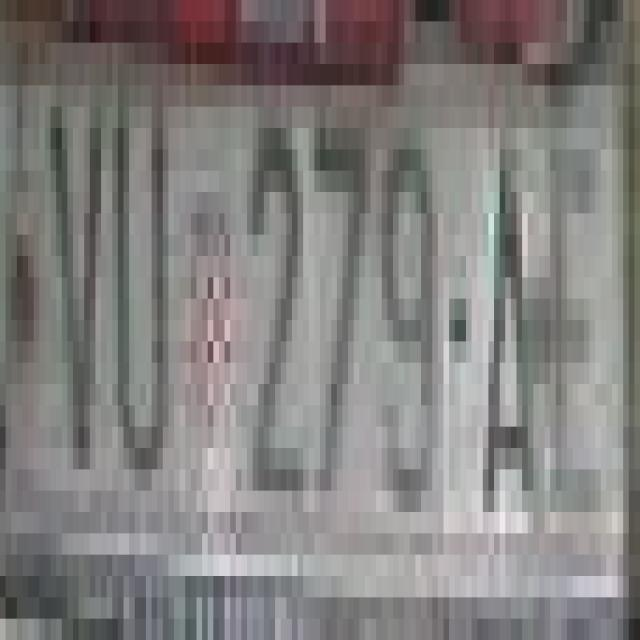2: (242, 107, 304, 490)
7: (312, 85, 368, 491)
9: (379, 117, 435, 459)
A: (480, 138, 536, 522)
E: (544, 107, 618, 512)
U: (110, 86, 172, 470)
V: (45, 86, 101, 470)
